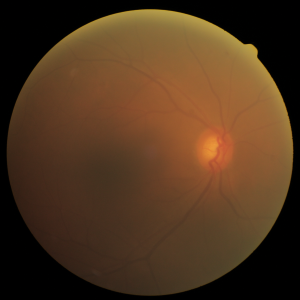cataract: (69, 99, 266, 213)
